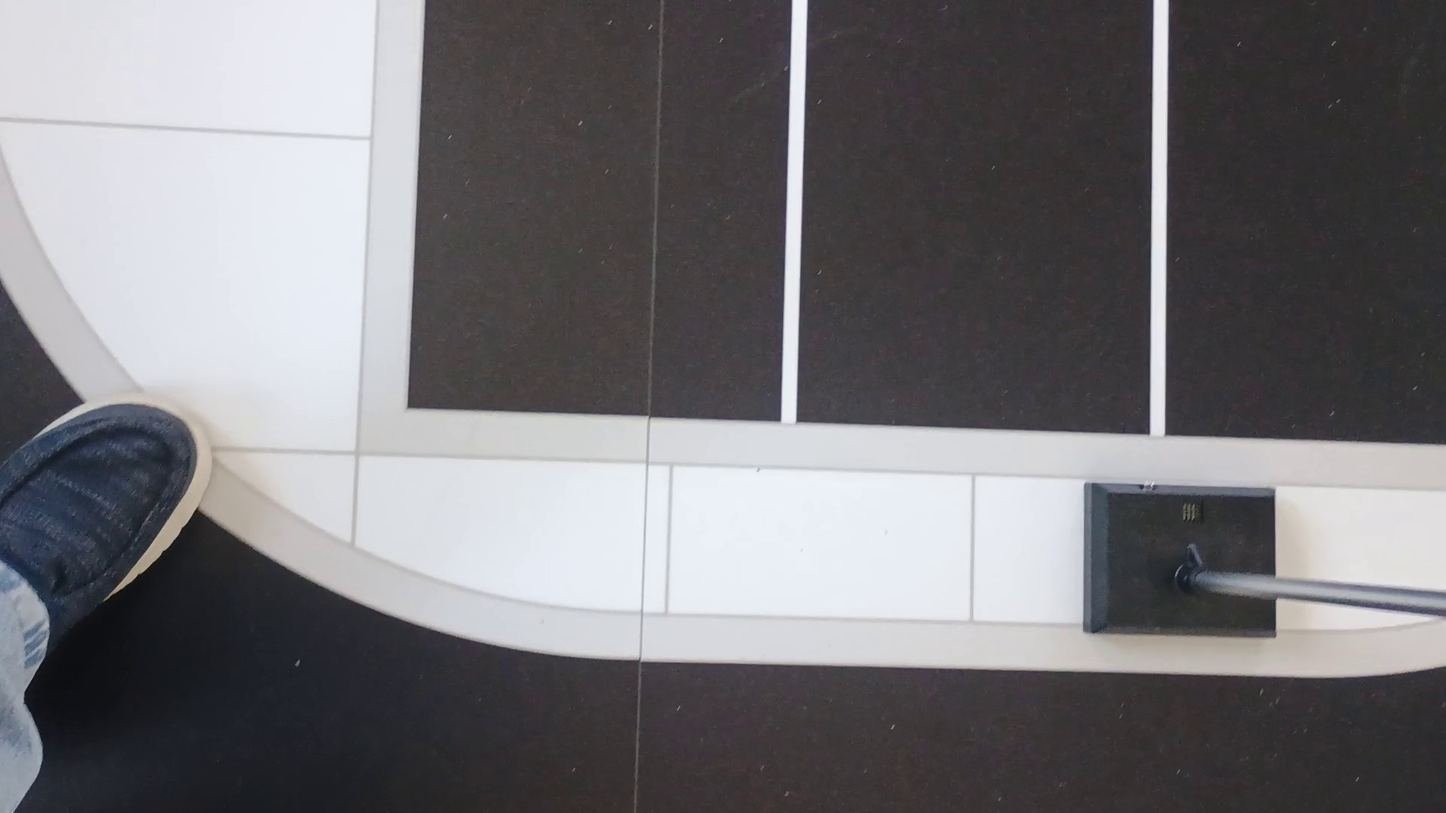Parking: (409, 0, 798, 419), (790, 0, 1160, 433)
Solid: (780, 0, 807, 423), (1149, 0, 1169, 436)
Street: (409, 0, 1445, 443), (23, 517, 1445, 812), (0, 291, 81, 456)
